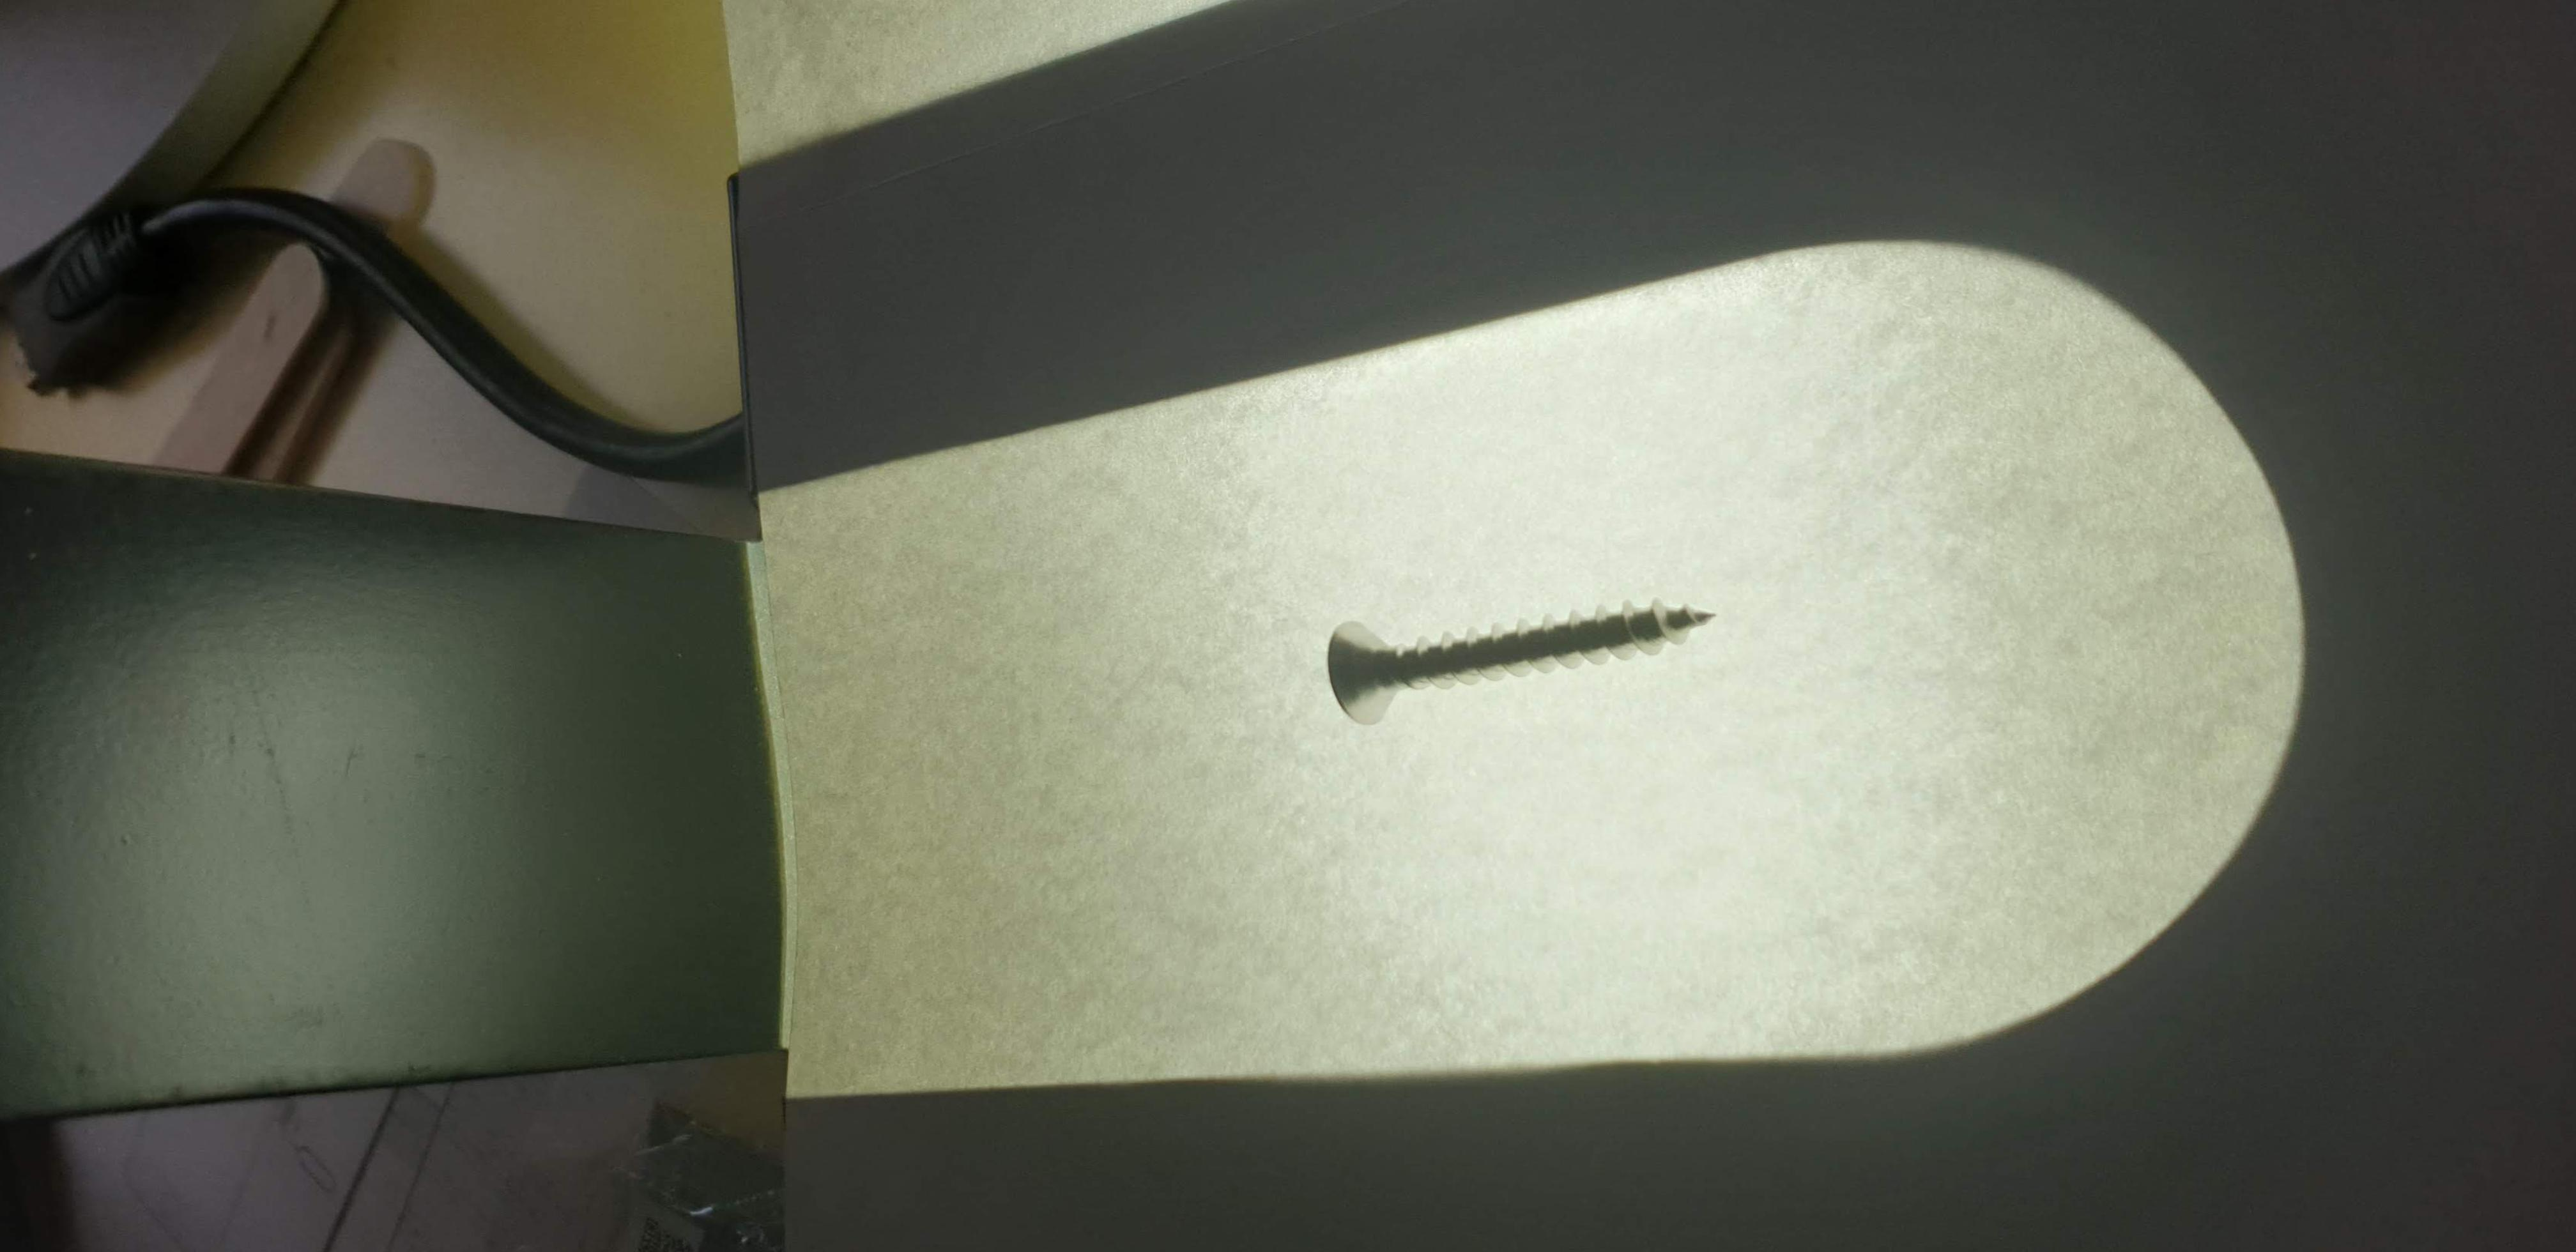S004: (1268, 577, 1756, 741)
